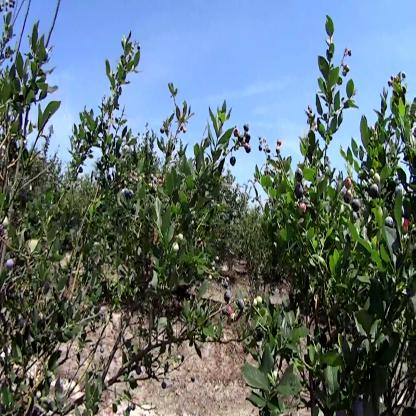intermediate: (345, 174, 355, 191)
mature: (343, 193, 354, 204), (372, 182, 380, 197), (353, 200, 363, 210)
young: (374, 171, 382, 187)
